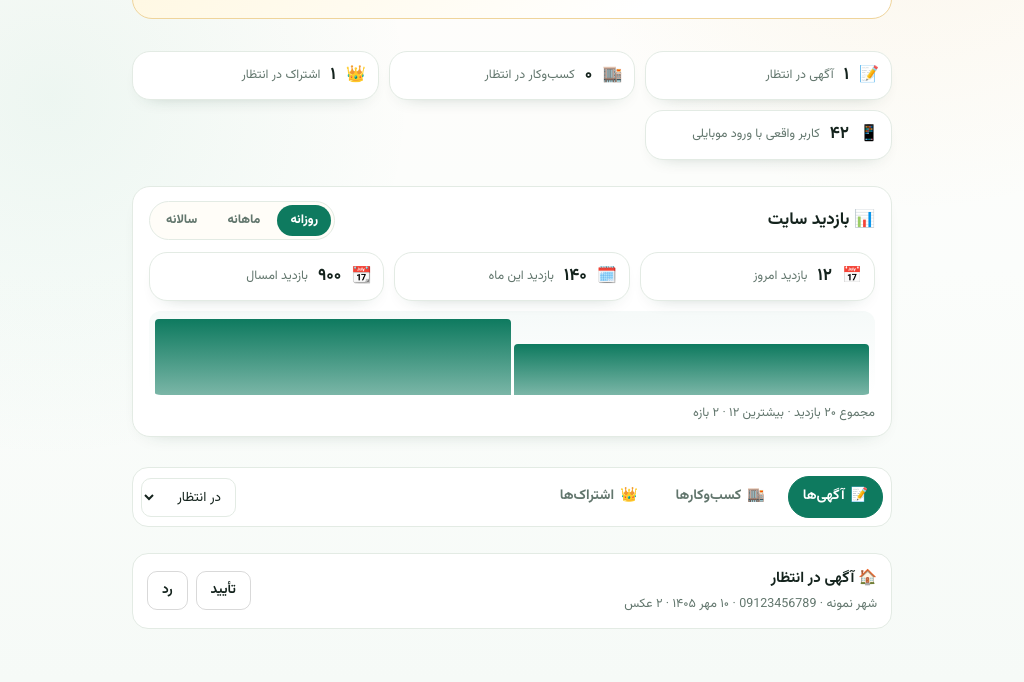
AdminPanel › shows the empty state when a queue has no rows
The image size is (1024, 682).
Click the tab with test id "tab-businesses".
click(720, 497)  # box [661,476,780,518]
(page scrolled)
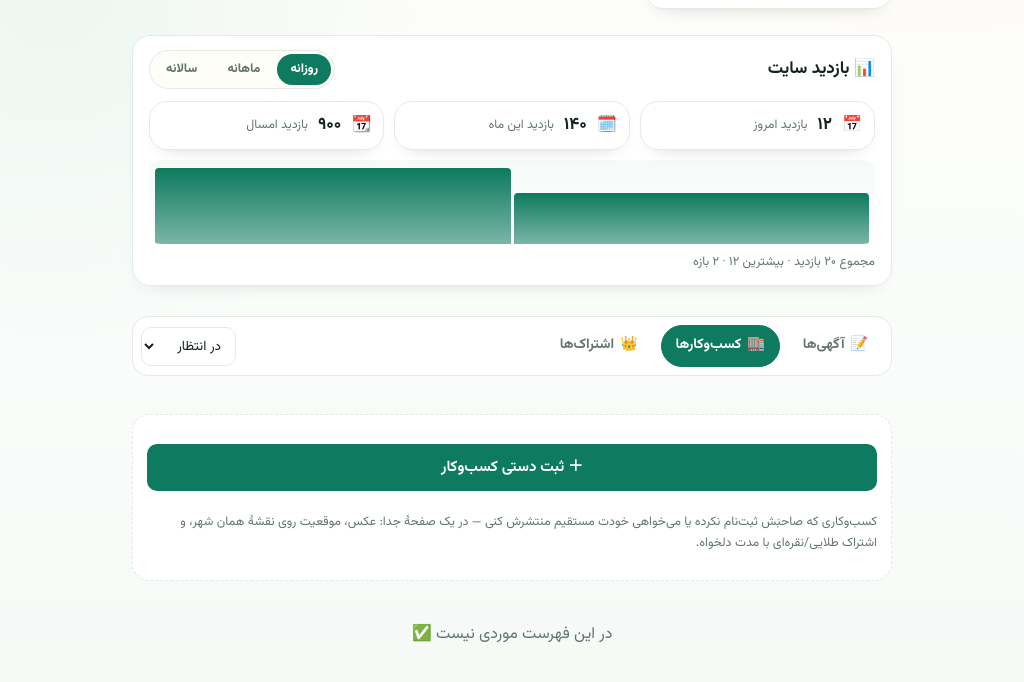
Expected: the text with test id "empty-queue" shows "در این فهرست موردی نیست", [412,622,612,647]
